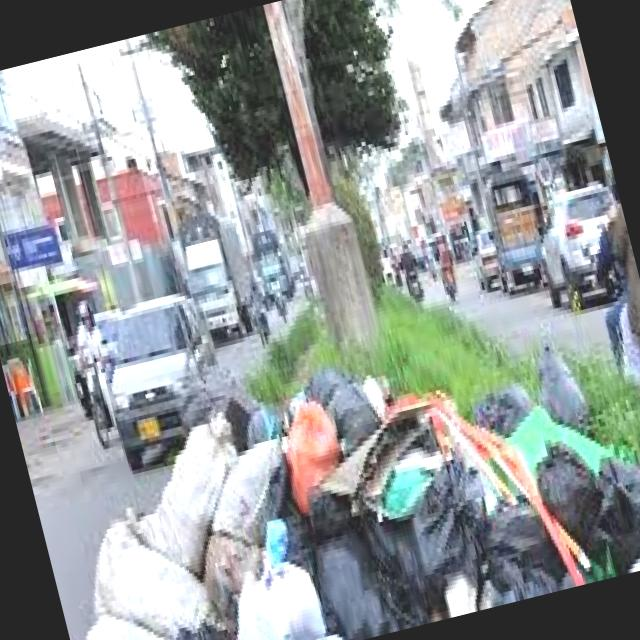garbage: (72, 307, 640, 640)
